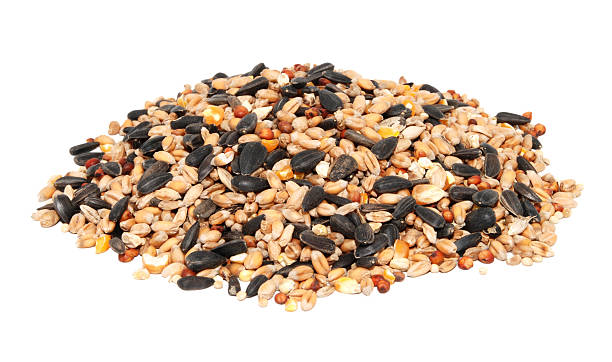seed: (23, 51, 585, 321)
